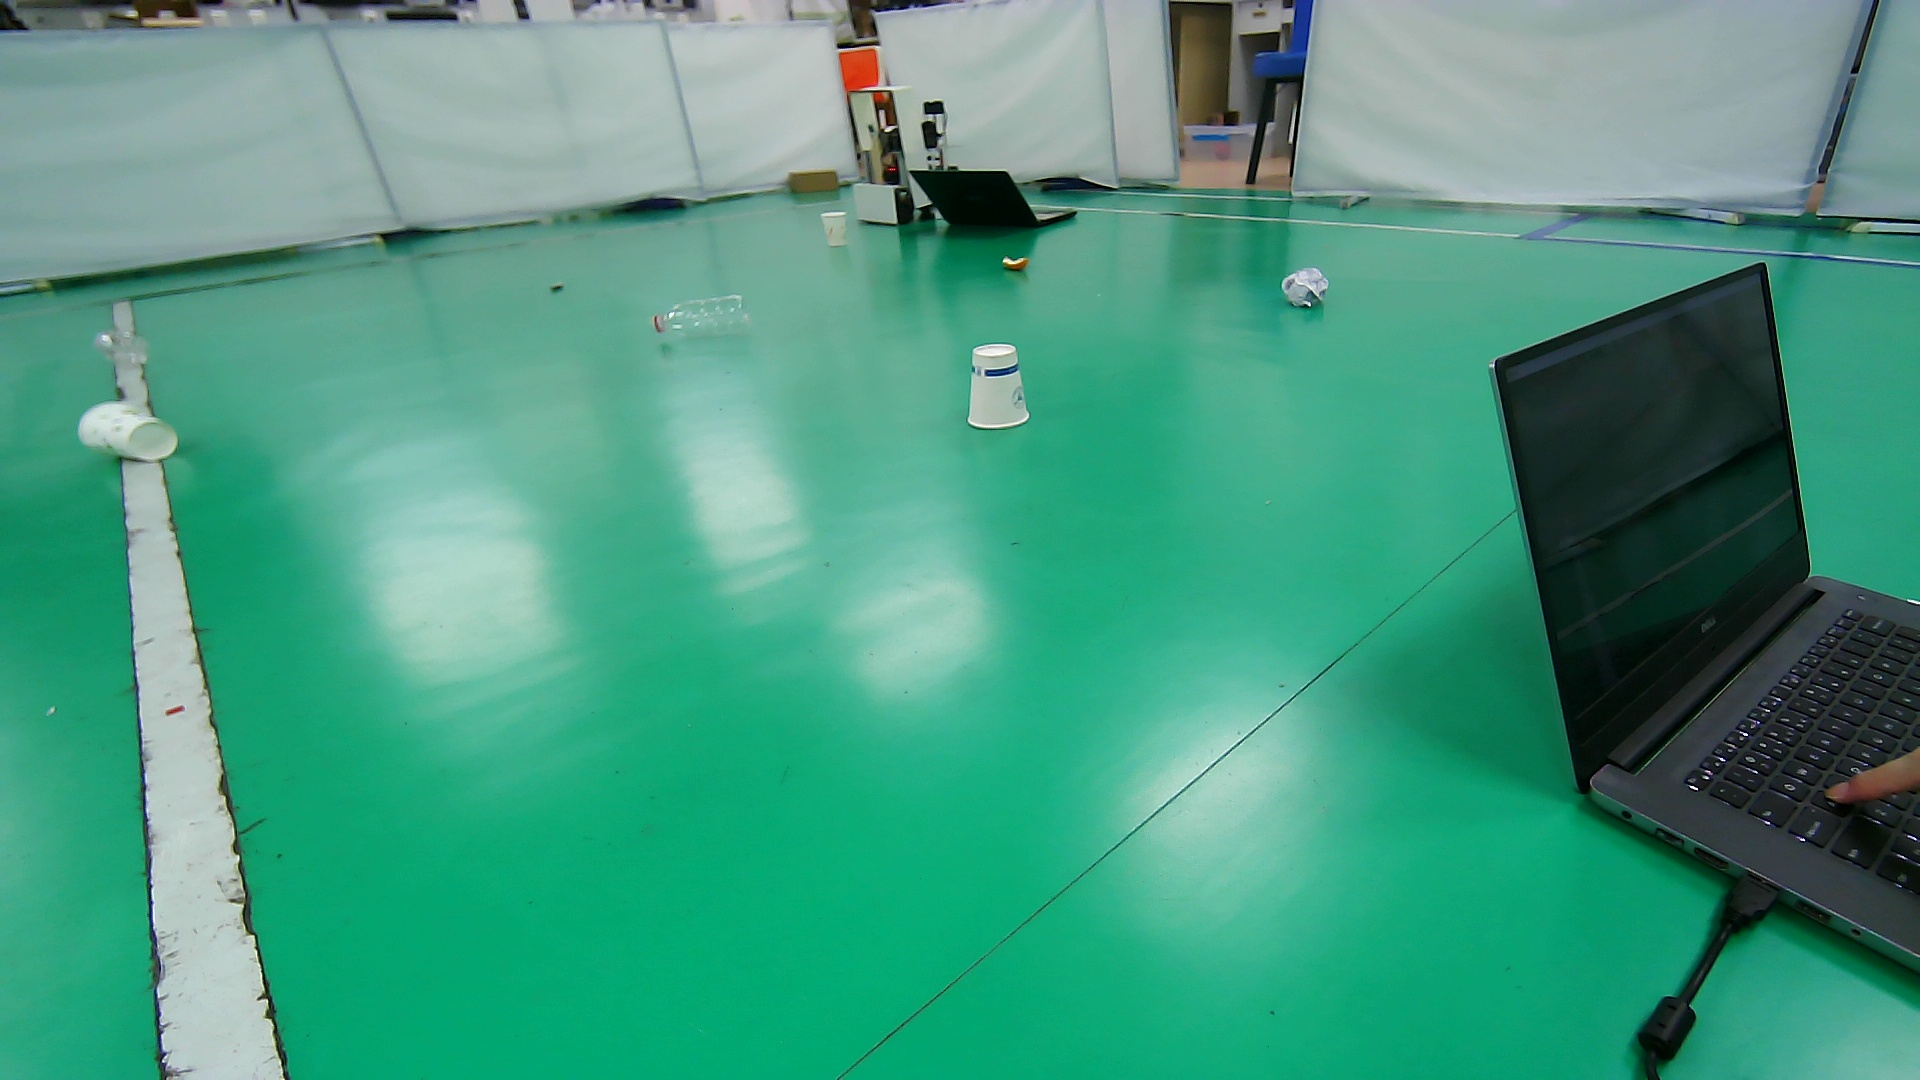battery: (542, 276, 572, 299)
bottle: (647, 291, 756, 344), (87, 324, 157, 371)
orangepeel: (997, 251, 1033, 276)
papercup: (963, 338, 1033, 435), (74, 398, 179, 462), (816, 208, 855, 251)
spitball: (1276, 264, 1333, 310)
